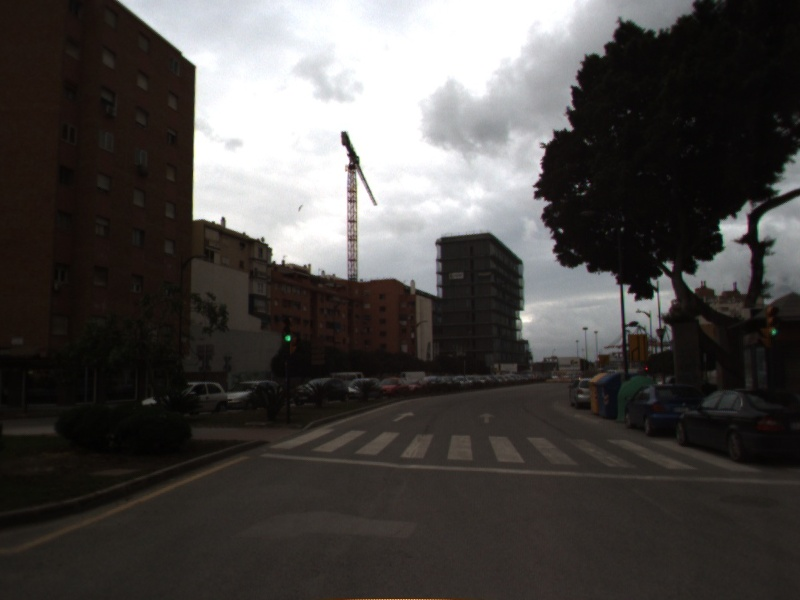STRAIGHT: (390, 409, 418, 424), (476, 411, 498, 425)
